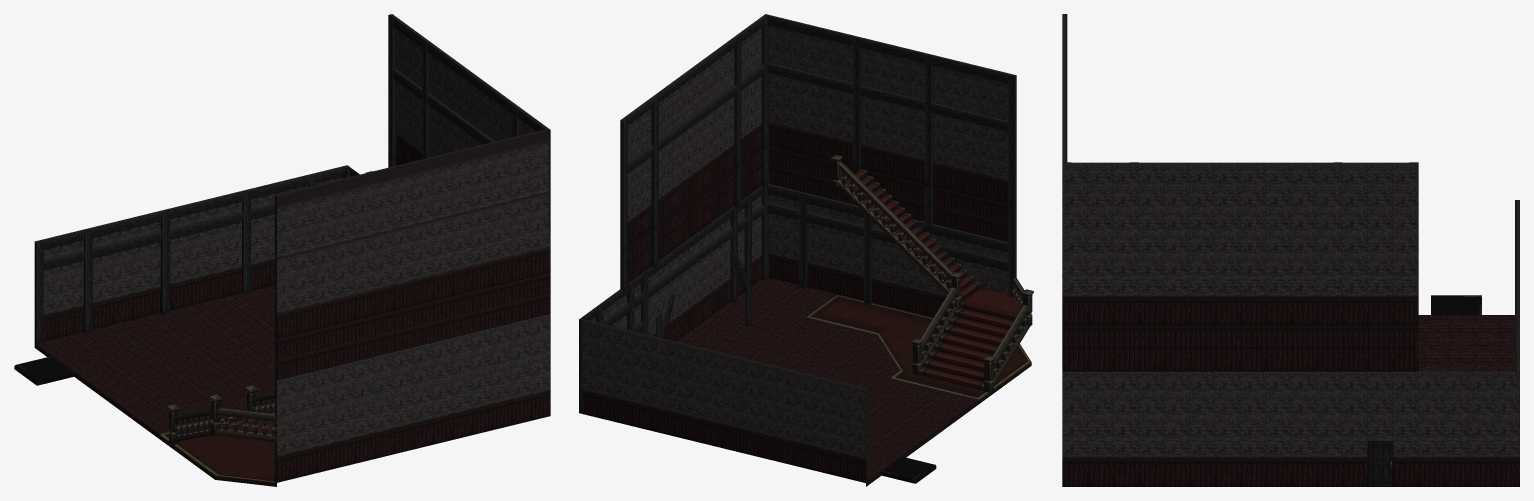
Rendered from EnvBdgMD_City_A_Indoor_Bar_1F.FBX.
3 views of the same model, side by side, from view 1: azimuth 30°, elevation 25°; view 2: azimuth 150°, elevation 25°; view 3: azimuth 270°, elevation 25° (orthographic). The views are drawn at different scales.
Visible parts, largest first — view 1: EnvBdgMD_City_A_Indoor_Bar_1F; view 2: EnvBdgMD_City_A_Indoor_Bar_1F; view 3: EnvBdgMD_City_A_Indoor_Bar_1F.
Part boxes in pixels (<box>): EnvBdgMD_City_A_Indoor_Bar_1F: <box>14,14,550,486</box>; EnvBdgMD_City_A_Indoor_Bar_1F: <box>579,14,1033,486</box>; EnvBdgMD_City_A_Indoor_Bar_1F: <box>1062,14,1519,486</box>.
Size of the model in its own units: 1790 by 1420 by 1801.
